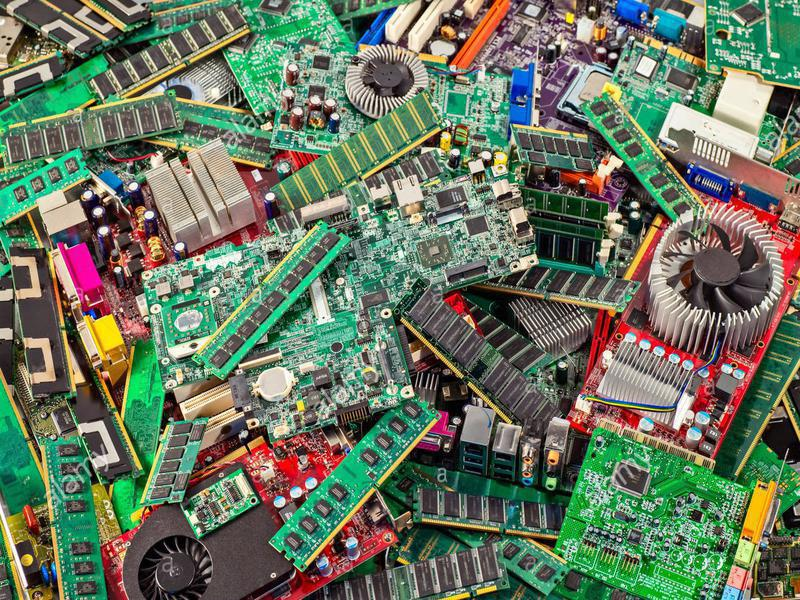circuit_board: (118, 216, 419, 444), (565, 173, 800, 462), (557, 409, 778, 600), (262, 34, 547, 158), (254, 395, 447, 564), (349, 144, 543, 302), (115, 134, 277, 274), (28, 433, 151, 600), (576, 84, 707, 229), (397, 480, 573, 568), (1, 86, 187, 167), (699, 1, 799, 80), (177, 465, 263, 538)
